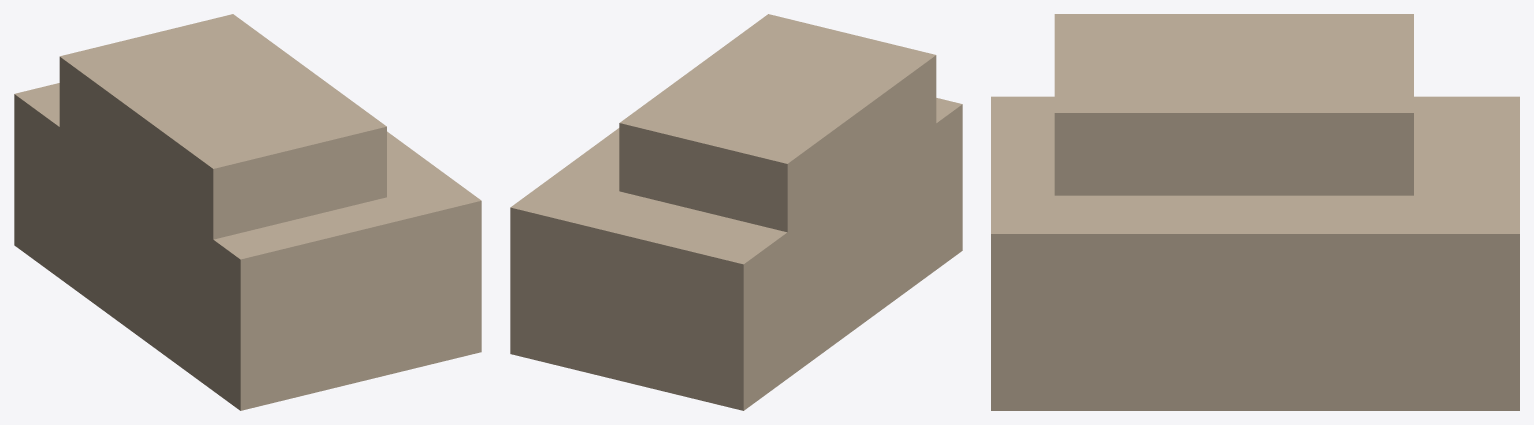
Rendered from massing.glb.
3 views of the same model, side by side, from view 1: azimuth 30°, elevation 25°; view 2: azimuth 150°, elevation 25°; view 3: azimuth 270°, elevation 25° (orthographic). The views are drawn at different scales.
Visible parts, largest first — view 1: building/exterior; view 2: building/exterior; view 3: building/exterior.
Part boxes in pixels (box(x1,y1,x2,y2)): building/exterior: box(14, 14, 481, 410); building/exterior: box(510, 14, 962, 410); building/exterior: box(991, 14, 1519, 410).
Size of the model in its own units: 10 by 8.8 by 16.25.
